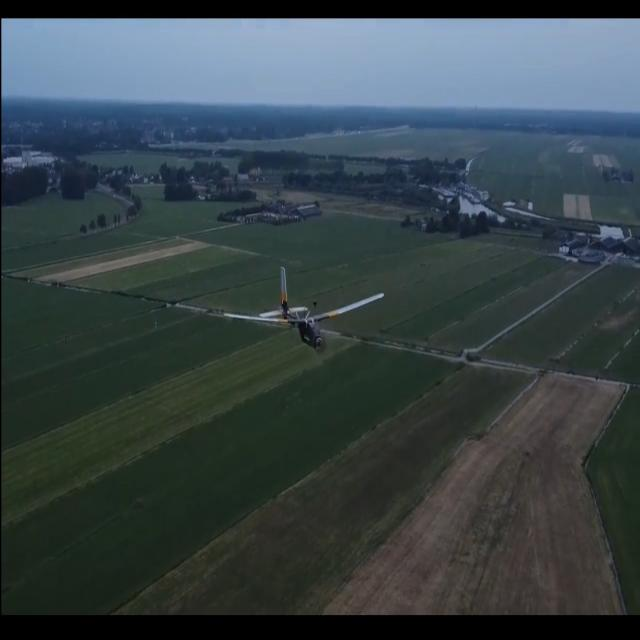iha: (222, 294, 388, 321)
